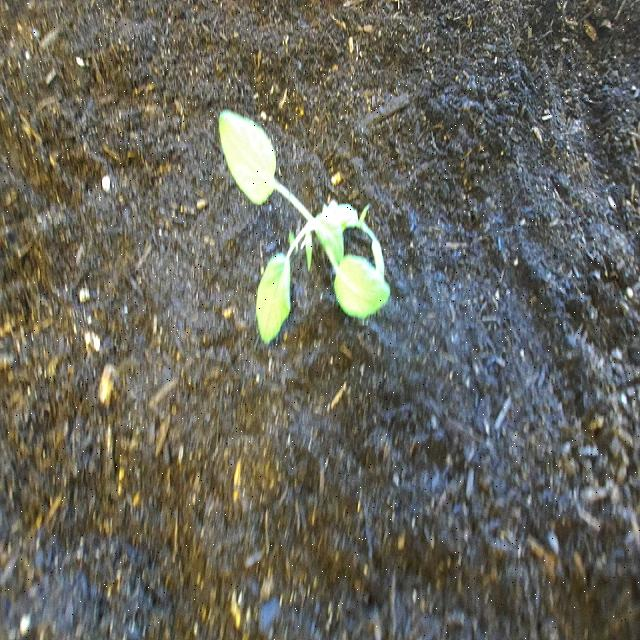Healthy: (212, 71, 410, 388)
